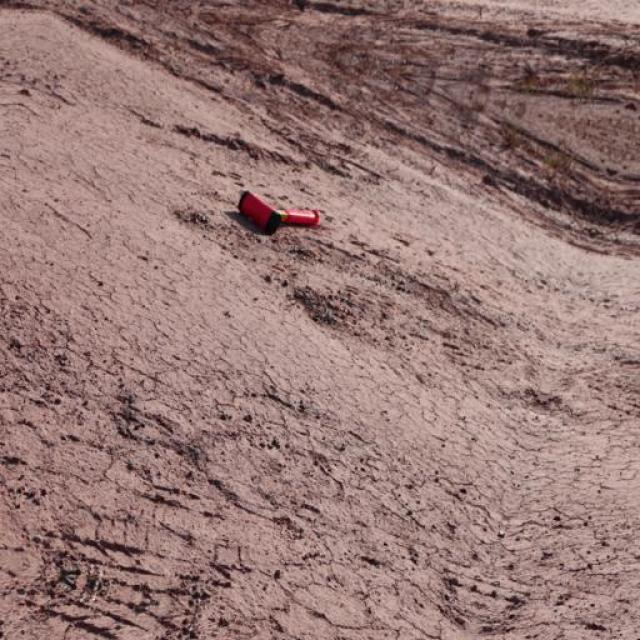mallet: (235, 187, 320, 235)
